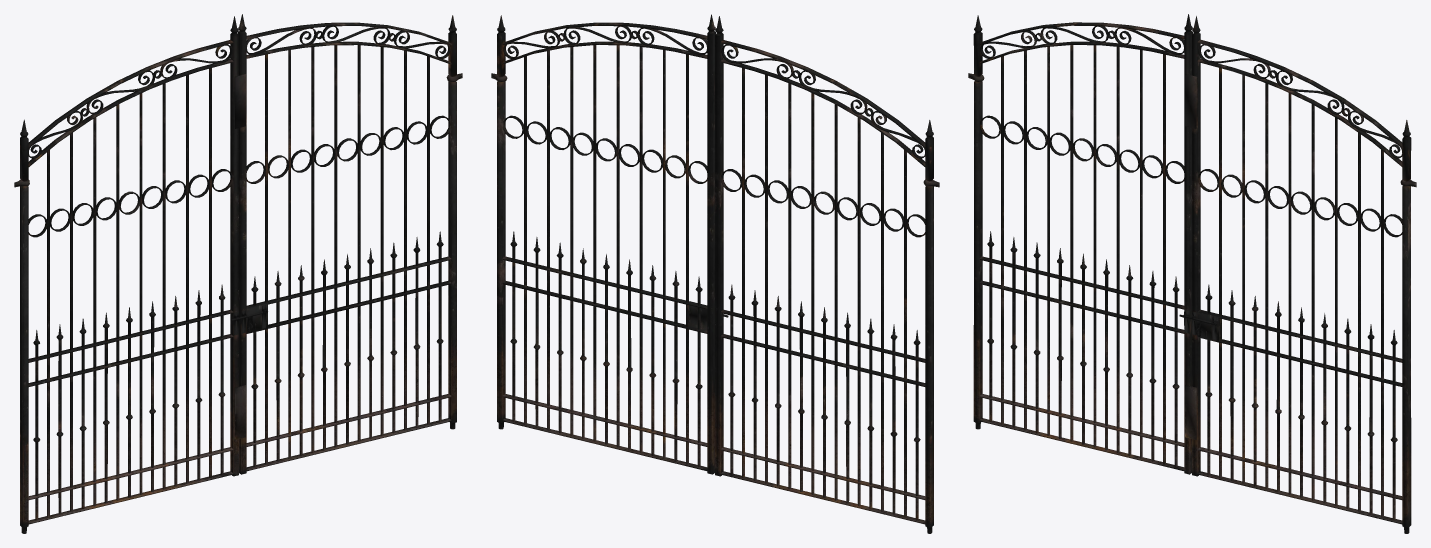
File: large-iron-gate.glb
3 views of the same model, side by side, from view 1: azimuth 30°, elevation 25°; view 2: azimuth 150°, elevation 25°; view 3: azimuth 330°, elevation 25° (orthographic).
Parts seen in each view (by area): view 1: large_iron_gate_right_door, large_iron_gate_left_door; view 2: large_iron_gate_left_door, large_iron_gate_right_door; view 3: large_iron_gate_right_door, large_iron_gate_left_door.
Part boxes in pixels (x1,y1,x2,y2): large_iron_gate_right_door: (234, 14, 456, 474); large_iron_gate_left_door: (20, 16, 239, 533); large_iron_gate_left_door: (715, 16, 933, 533); large_iron_gate_right_door: (497, 14, 715, 474); large_iron_gate_right_door: (1185, 16, 1411, 533); large_iron_gate_left_door: (973, 14, 1192, 474).
Bounding box in the file's own units: 2.95 × 2.93 × 0.0973.
1 material, 1 textured.
